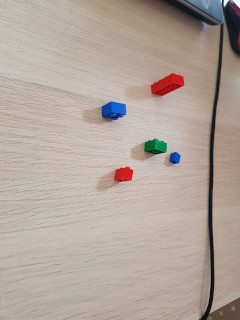1x1 blue: (170, 151, 181, 165)
1x2 red: (113, 166, 133, 183)
2x2 blue: (100, 101, 127, 122)
2x2 green: (143, 138, 167, 157)
2x4 red: (151, 73, 185, 100)
